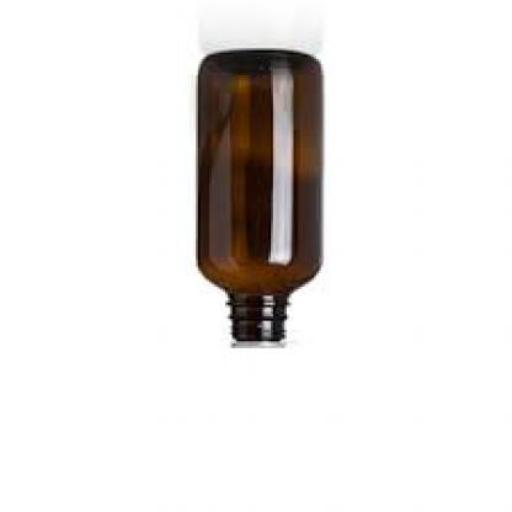glass: (198, 50, 326, 344)
metal: (232, 344, 289, 354)
